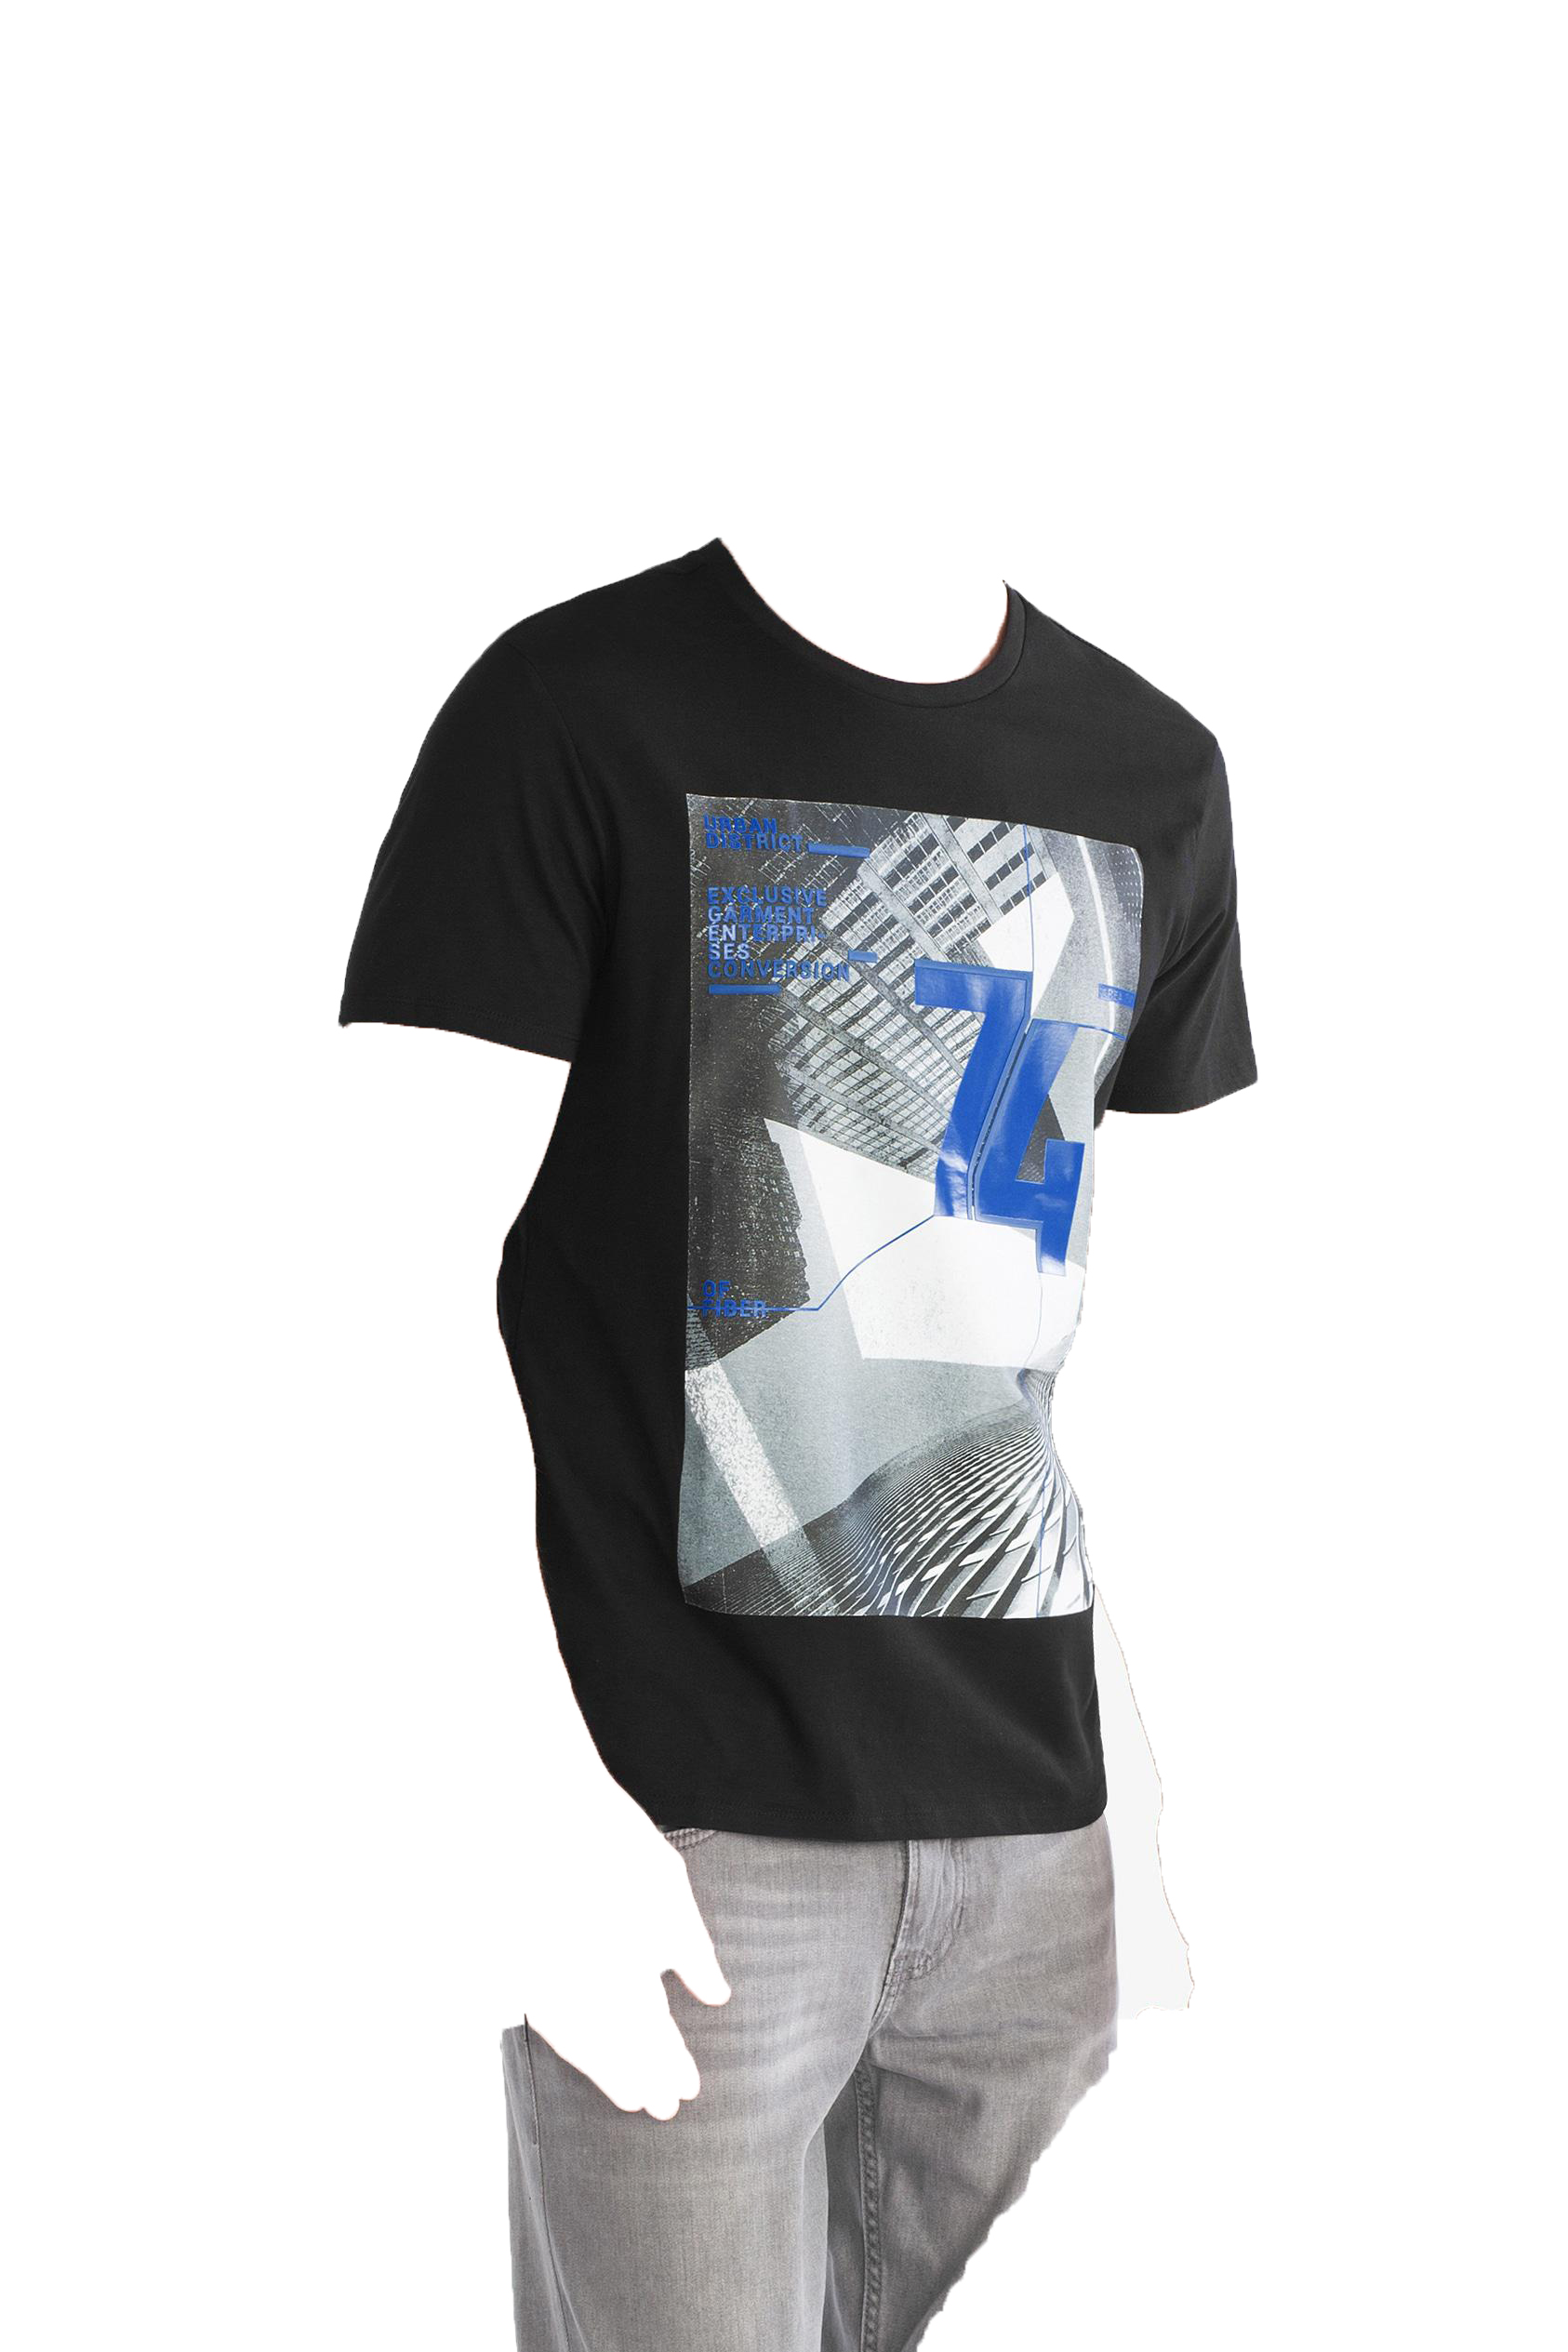teeshirt: (338, 522, 1325, 1848)
